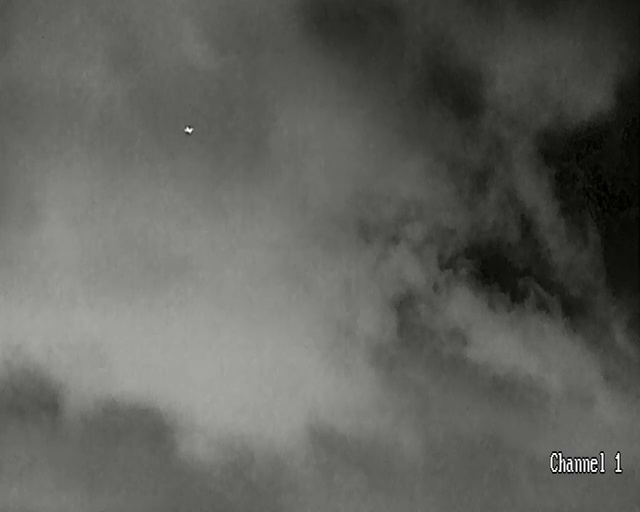uav: (184, 125, 194, 135)
